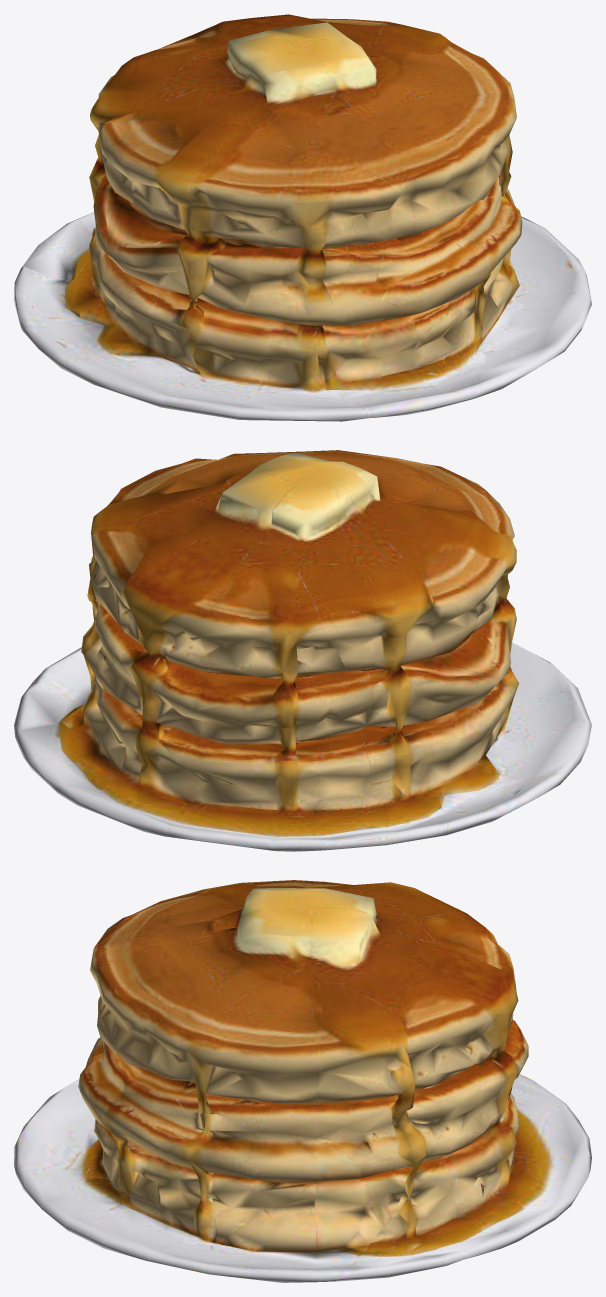
Rendered from pancake-stack-ar.glb.
The picture shows the model from 3 angles, top to bottom: view 1: azimuth 30°, elevation 25°; view 2: azimuth 150°, elevation 25°; view 3: azimuth 270°, elevation 25°; orthographic projection.
Parts seen in each view (by area): view 1: mesh_node; view 2: mesh_node; view 3: mesh_node.
Boxes of the visible parts, x1,y1,x2,y2 form: mesh_node: [14, 14, 591, 421]; mesh_node: [14, 450, 591, 851]; mesh_node: [14, 880, 591, 1282].
Bounding box in the file's own units: 0.2193 × 0.1117 × 0.2193.
1 material, 1 textured.
